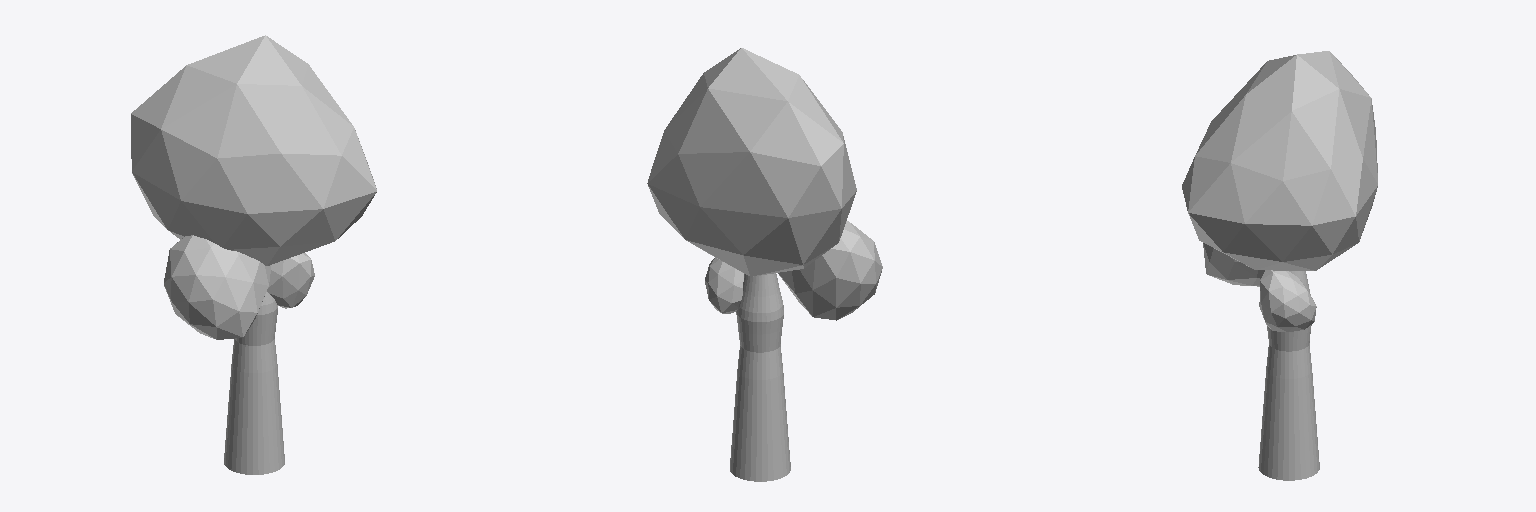
The model's file is tree.obj.
The picture shows the model from 3 angles: view 1: azimuth 30°, elevation 25°; view 2: azimuth 150°, elevation 25°; view 3: azimuth 270°, elevation 25°; orthographic projection.
Parts seen in each view (by area): view 1: Cylinder; view 2: Cylinder; view 3: Cylinder.
Part boxes in pixels (bbox=[...]): Cylinder: bbox=[131, 35, 376, 474]; Cylinder: bbox=[647, 48, 882, 481]; Cylinder: bbox=[1182, 51, 1377, 480].
Size of the model in its own units: 7.44 by 15.09 by 6.4.